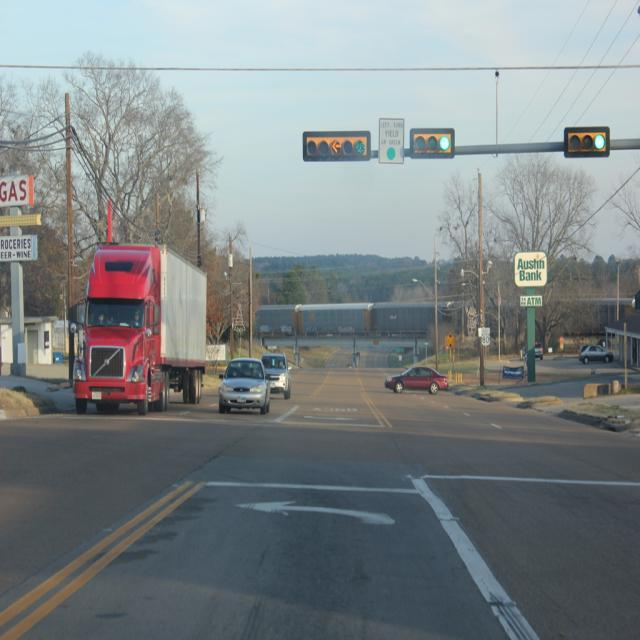traffic light: (298, 133, 372, 160), (565, 126, 612, 158), (409, 128, 454, 158)
